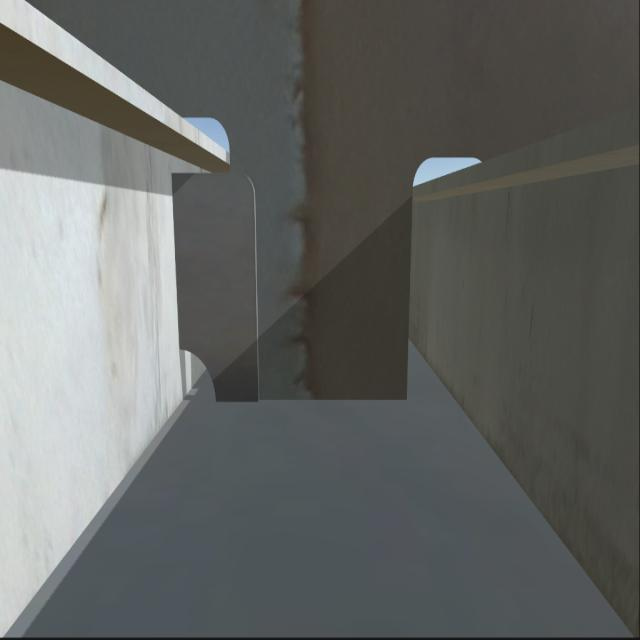fillet_hole: (177, 347, 219, 404)
fillet_yong_jeop_jang: (214, 394, 406, 404)
longi_yong_jeop_jang: (169, 175, 181, 352)
plate_CP05: (177, 169, 259, 400)
